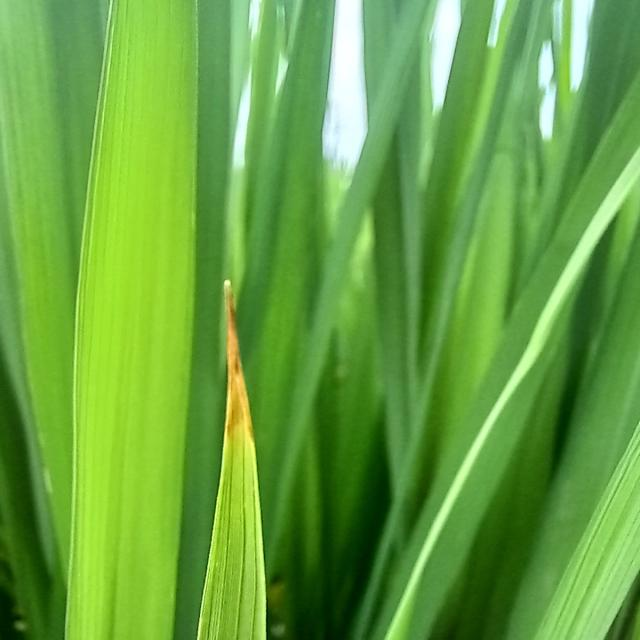HealthyLeaf: (105, 43, 170, 623)
